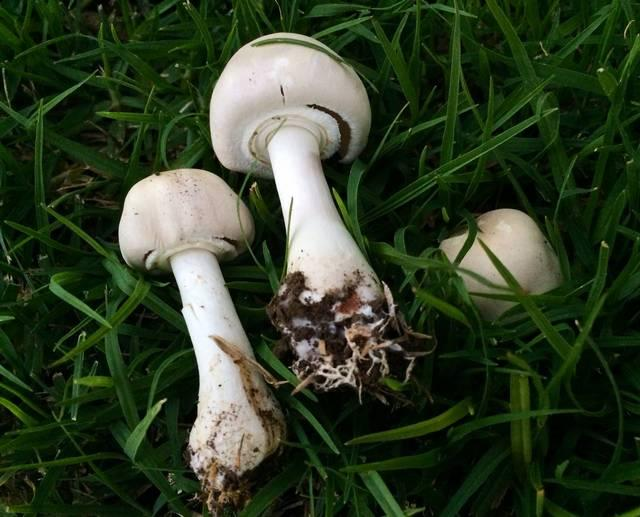Non-edible Mushroom: (206, 30, 426, 403), (116, 166, 287, 516), (437, 206, 564, 323)
